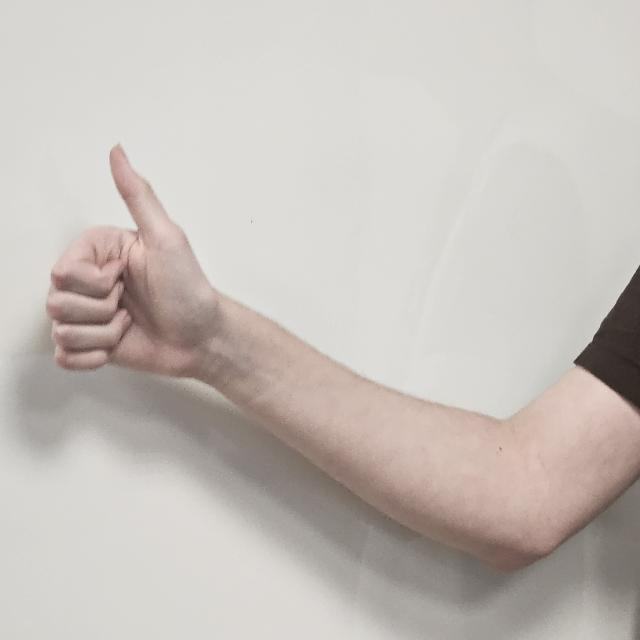Start: (49, 144, 229, 430)
